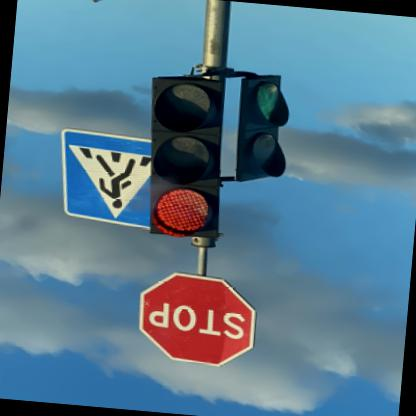crosswalk: (57, 129, 162, 232)
stop: (138, 272, 262, 370)
trafficlight: (142, 76, 236, 243), (234, 74, 296, 188)
